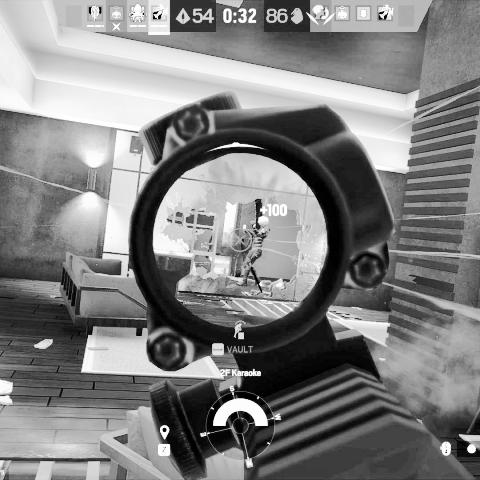Character: (236, 214, 272, 288)
Head: (258, 216, 270, 228)
